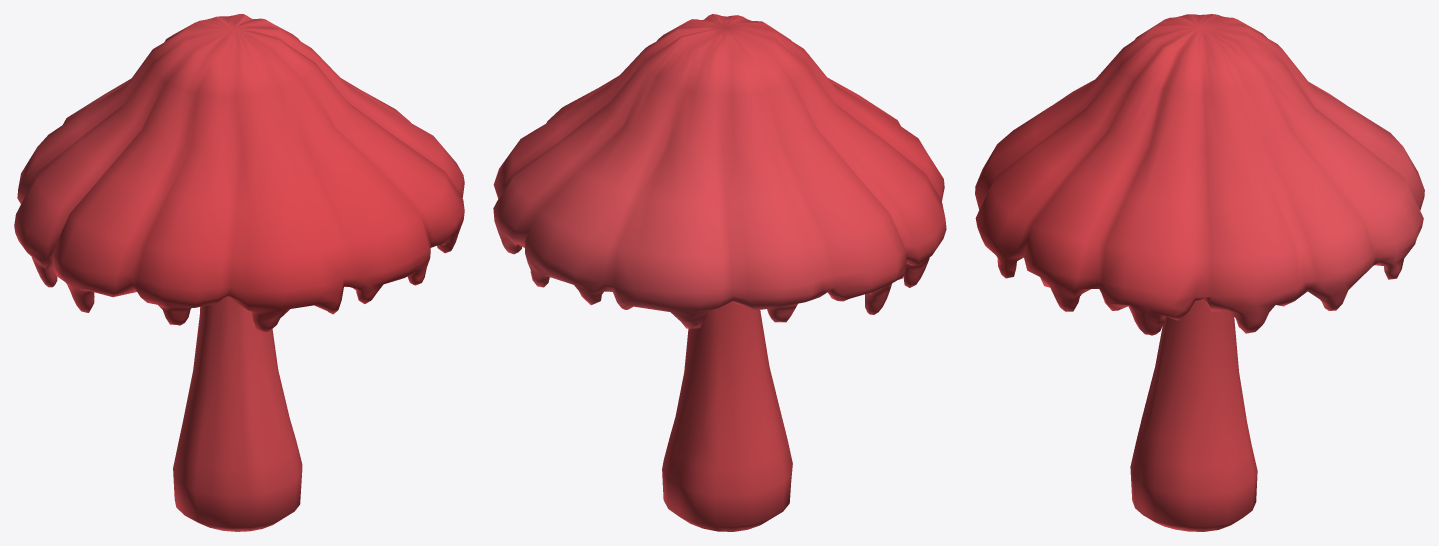
Rendered from mushroom 14.fbx.
3 renders of one model, left to right at view 1: azimuth 30°, elevation 25°; view 2: azimuth 150°, elevation 25°; view 3: azimuth 270°, elevation 25°, orthographic.
Parts seen in each view (by area): view 1: Mushroom_0001_0014; view 2: Mushroom_0001_0014; view 3: Mushroom_0001_0014.
Boxes of the visible parts, box(x1,y1,x2,y2) form: Mushroom_0001_0014: box(14, 14, 464, 531); Mushroom_0001_0014: box(493, 14, 946, 531); Mushroom_0001_0014: box(975, 14, 1424, 531).
Size of the model in its own units: 26.18 by 30.91 by 25.85.
1 material, 1 textured.
